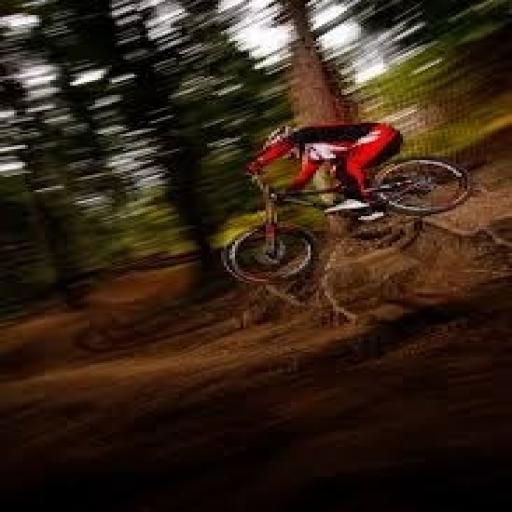cycling: (240, 118, 408, 224)
